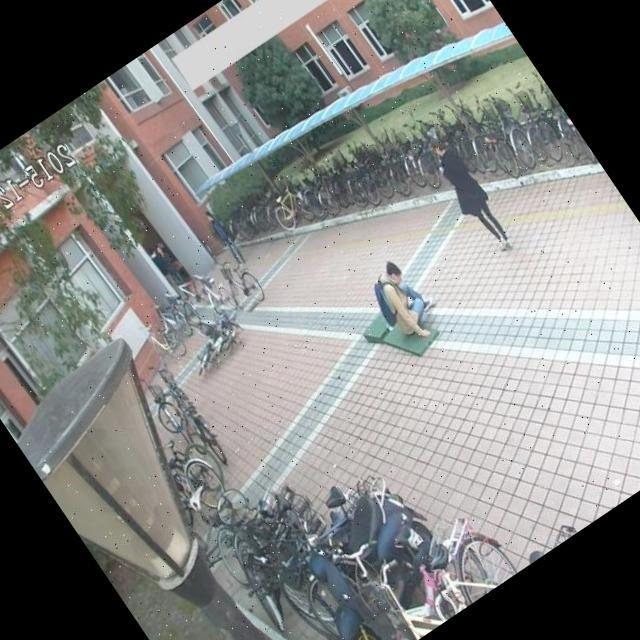person: (416, 124, 526, 266), (347, 236, 448, 347), (197, 199, 254, 272), (146, 238, 188, 288)
